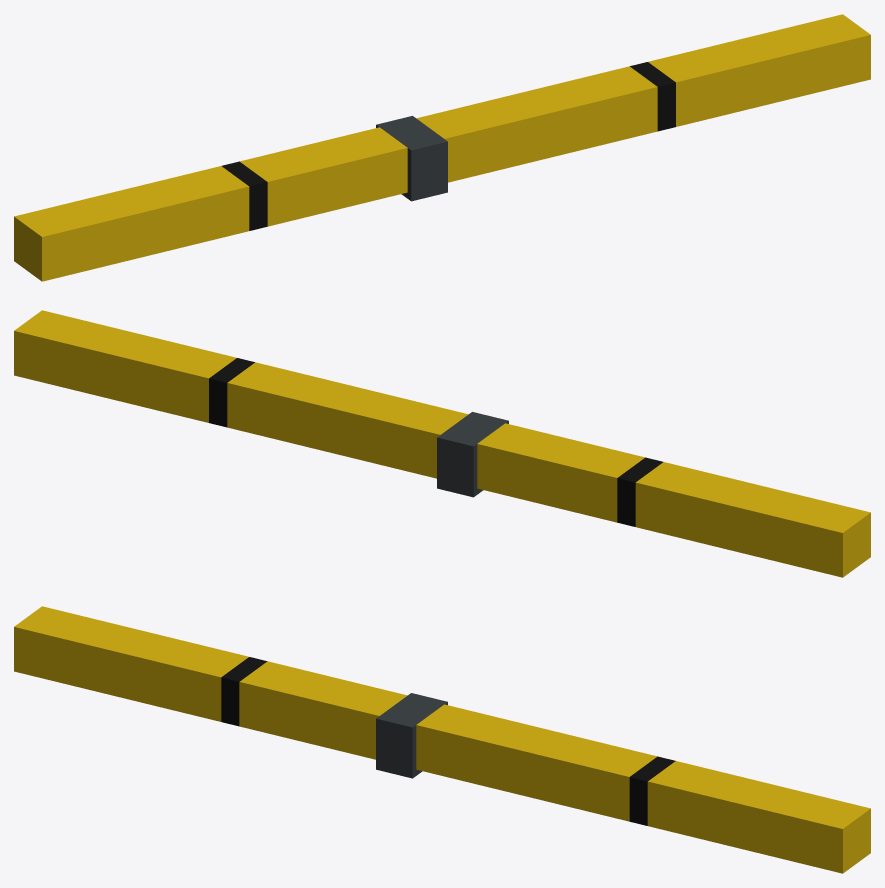
File: bucket_truck_insulated_boom.glb
3 renders of one model, top to bottom at view 1: azimuth 30°, elevation 25°; view 2: azimuth 150°, elevation 25°; view 3: azimuth 330°, elevation 25°, orthographic.
Parts seen in each view (by area): view 1: body:compound; view 2: body:compound; view 3: body:compound.
Boxes of the visible parts, box(x1,y1,x2,y2) form: body:compound: box(14, 14, 870, 281); body:compound: box(14, 310, 870, 577); body:compound: box(14, 606, 870, 873).
Bounding box in the file's own units: 4.25 × 0.25 × 0.3125.
